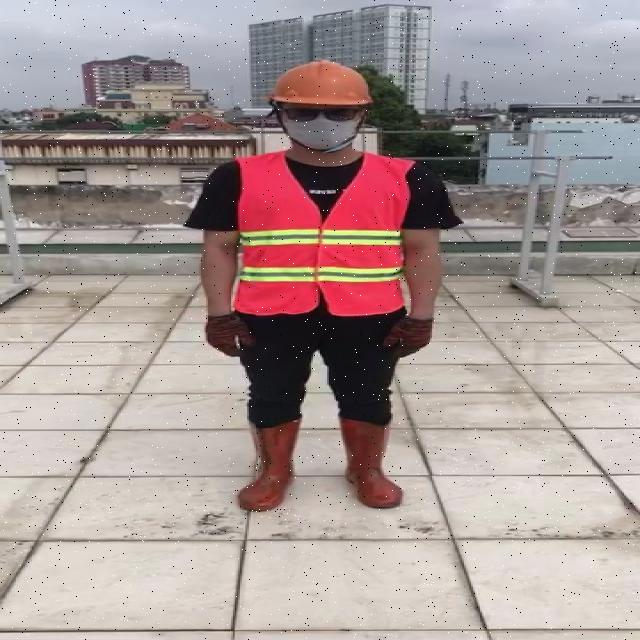Hard_hat: (264, 56, 380, 118)
Person: (184, 63, 469, 543)
Vest: (234, 151, 414, 315)
